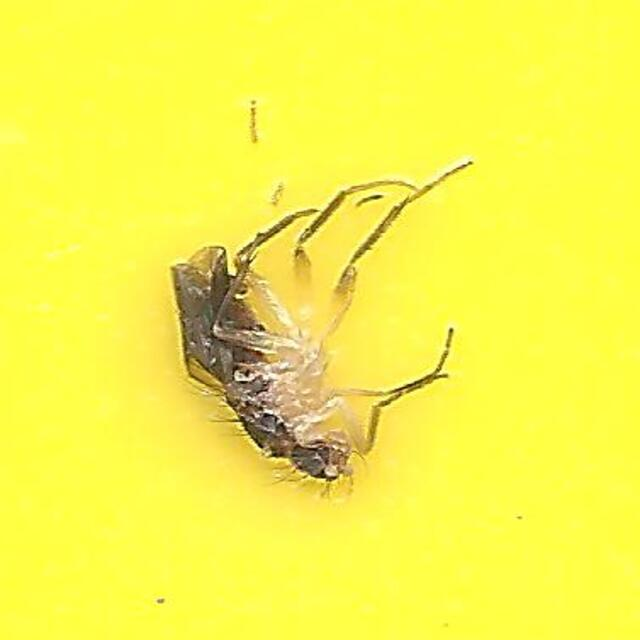Brachycera: (170, 152, 470, 488)
